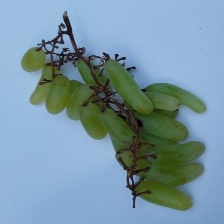grapes: (15, 9, 184, 181)
